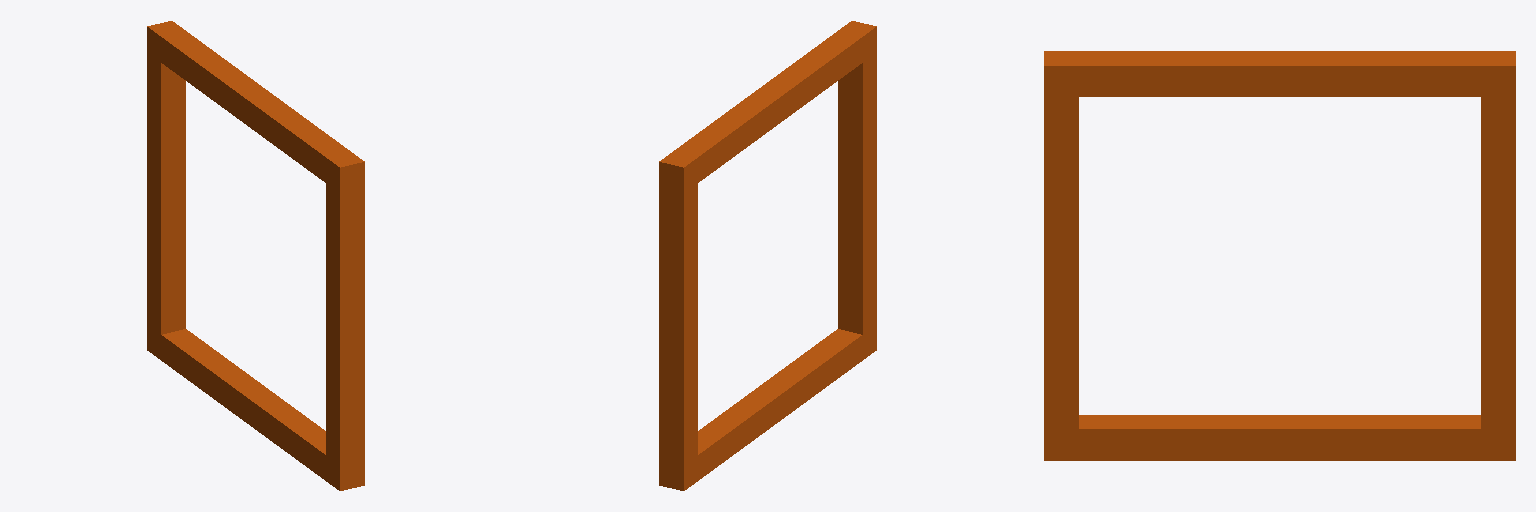
URDF robot description (gate_small):
<?xml version="1.0"?>
<robot name="gate_small">

  <!-- Small gate material (orange color to distinguish from other gates) -->
  <material name="gate_small_material">
    <color rgba="0.8 0.4 0.1 1.0"/>
  </material>

  <!-- The base of the gate, to which all other parts are connected. -->
  <link name="base_link"/>

  <!-- Left vertical post of the gate (0.5x scale) -->
  <link name="left_post">
    <visual>
      <origin xyz="0 0 0.625" rpy="0 0 0"/>
      <geometry>
        <!-- Scaled: 0.2*0.5 = 0.1, 2.5*0.5 = 1.25 -->
        <box size="0.1 0.1 1.25"/>
      </geometry>
      <material name="gate_small_material"/>
    </visual>
    <collision>
      <origin xyz="0 0 0.625" rpy="0 0 0"/>
      <geometry>
        <box size="0.1 0.1 1.25"/>
      </geometry>
    </collision>
    <inertial>
      <mass value="5"/>
      <inertia ixx="1.0" ixy="0.0" ixz="0.0" iyy="1.0" iyz="0.0" izz="1.0"/>
    </inertial>
  </link>

  <!-- Connects the left post to the base (0.5x scale) -->
  <joint name="base_to_left_post" type="fixed">
    <parent link="base_link"/>
    <child link="left_post"/>
    <!-- Scaled: 1.25*0.5 = 0.625 -->
    <origin xyz="0 0.625 0" rpy="0 0 0"/>
  </joint>

  <!-- Right vertical post of the gate (0.5x scale) -->
  <link name="right_post">
    <visual>
      <origin xyz="0 0 0.625" rpy="0 0 0"/>
      <geometry>
        <box size="0.1 0.1 1.25"/>
      </geometry>
      <material name="gate_small_material"/>
    </visual>
    <collision>
      <origin xyz="0 0 0.625" rpy="0 0 0"/>
      <geometry>
        <box size="0.1 0.1 1.25"/>
      </geometry>
    </collision>
    <inertial>
      <mass value="5"/>
      <inertia ixx="1.0" ixy="0.0" ixz="0.0" iyy="1.0" iyz="0.0" izz="1.0"/>
    </inertial>
  </link>

  <!-- Connects the right post to the base (0.5x scale) -->
  <joint name="base_to_right_post" type="fixed">
    <parent link="base_link"/>
    <child link="right_post"/>
    <!-- Scaled: -1.25*0.5 = -0.625 -->
    <origin xyz="0 -0.625 0" rpy="0 0 0"/>
  </joint>

  <!-- Top horizontal bar of the gate (0.5x scale) -->
  <link name="top_bar">
    <visual>
      <origin xyz="0 0 0" rpy="0 0 0"/>
      <geometry>
        <!-- Scaled: 0.2*0.5 = 0.1, 2.7*0.5 = 1.35 -->
        <box size="0.1 1.35 0.1"/>
      </geometry>
      <material name="gate_small_material"/>
    </visual>
    <collision>
      <origin xyz="0 0 0" rpy="0 0 0"/>
      <geometry>
        <box size="0.1 1.35 0.1"/>
      </geometry>
    </collision>
    <inertial>
      <mass value="5"/>
      <inertia ixx="1.0" ixy="0.0" ixz="0.0" iyy="1.0" iyz="0.0" izz="1.0"/>
    </inertial>
  </link>

  <!-- Connects the top bar to the base (0.5x scale) -->
  <joint name="base_to_top_bar" type="fixed">
    <parent link="base_link"/>
    <child link="top_bar"/>
    <!-- Scaled: 2.4*0.5 = 1.2 -->
    <origin xyz="0 0 1.2" rpy="0 0 0"/>
  </joint>

  <!-- Bottom horizontal bar of the gate (0.5x scale) -->
  <link name="bottom_bar">
    <visual>
      <origin xyz="0 0 0" rpy="0 0 0"/>
      <geometry>
        <box size="0.1 1.35 0.1"/>
      </geometry>
      <material name="gate_small_material"/>
    </visual>
    <collision>
      <origin xyz="0 0 0" rpy="0 0 0"/>
      <geometry>
        <box size="0.1 1.35 0.1"/>
      </geometry>
    </collision>
    <inertial>
      <mass value="5"/>
      <inertia ixx="1.0" ixy="0.0" ixz="0.0" iyy="1.0" iyz="0.0" izz="1.0"/>
    </inertial>
  </link>

  <!-- Connects the bottom bar to the base (0.5x scale) -->
  <joint name="base_to_bottom_bar" type="fixed">
    <parent link="base_link"/>
    <child link="bottom_bar"/>
    <!-- Scaled: 0.1*0.5 = 0.05 -->
    <origin xyz="0 0 0.05" rpy="0 0 0"/>
  </joint>

</robot> 

--- What the picture shows (computed from the rendered views, not written in the file) ---
3 views of the same robot in one strip: view 1: azimuth 30°, elevation 25°; view 2: azimuth 150°, elevation 25°; view 3: azimuth 270°, elevation 25° (orthographic).
Robot: gate_small — 5 links, 4 joints (4 fixed); root link base_link; default pose: every joint at zero.
Visible links, largest first — view 1: right_post, left_post, top_bar, bottom_bar; view 2: left_post, right_post, top_bar, bottom_bar; view 3: bottom_bar, top_bar, left_post, right_post.
Link boxes in pixels (x1,y1,x2,y2): right_post: (326,151,364,490); left_post: (147,21,185,359); top_bar: (147,22,364,193); bottom_bar: (147,325,364,490); left_post: (659,151,697,490); right_post: (838,21,876,359); top_bar: (659,21,876,192); bottom_bar: (659,325,876,489); bottom_bar: (1044,415,1515,460); top_bar: (1044,51,1514,96); left_post: (1481,51,1515,460); right_post: (1044,51,1078,460).
Size in the robot's own frame: 0.1 by 1.35 by 1.25 metres.
Geometry: primitives only (box / cylinder / sphere), no mesh files.
